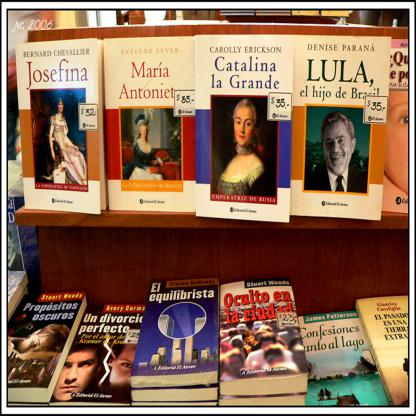book: (5, 8, 408, 408)
